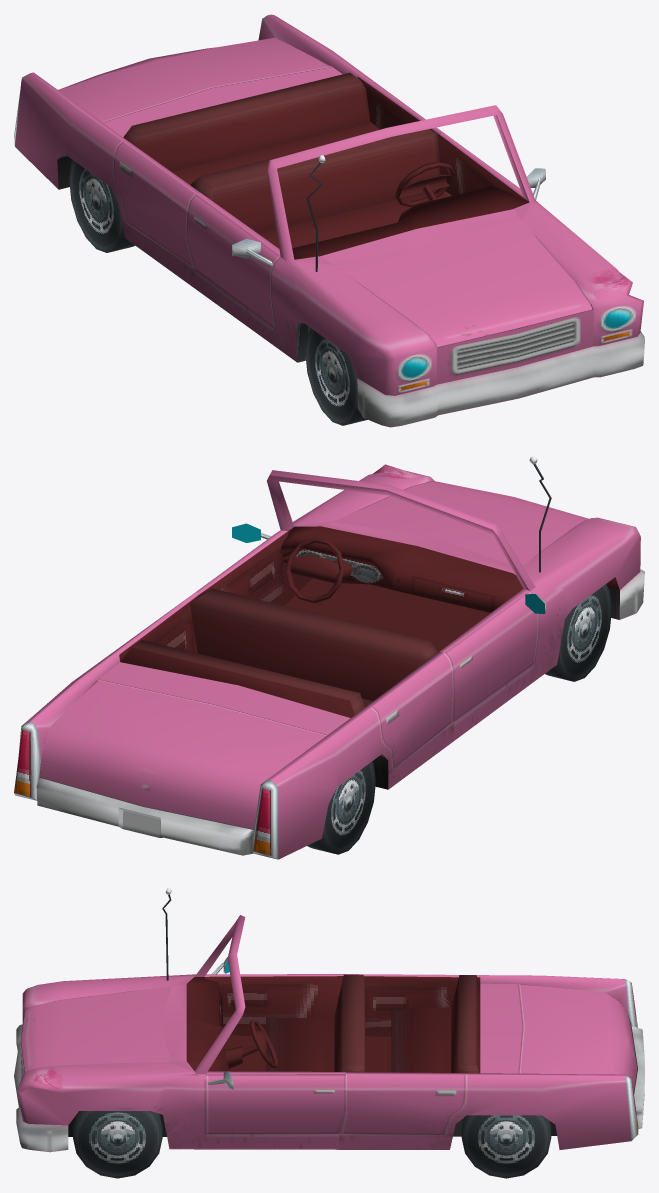
Rendered from familySedan.fbx.
3 views of the same model, one above another, from view 1: azimuth 30°, elevation 25°; view 2: azimuth 150°, elevation 25°; view 3: azimuth 270°, elevation 25° (orthographic). The views are drawn at different scales.
Parts seen in each view (by area): view 1: famil_vShape:famil_vShape; view 2: famil_vShape:famil_vShape; view 3: famil_vShape:famil_vShape.
Part boxes in pixels (x1,y1,x2,y2): famil_vShape:famil_vShape: (14, 14, 644, 427); famil_vShape:famil_vShape: (14, 456, 644, 859); famil_vShape:famil_vShape: (14, 888, 644, 1178).
Bounding box in the file's own units: 59.71 × 43.65 × 127.
Materials: 11 (11 with a texture image).
